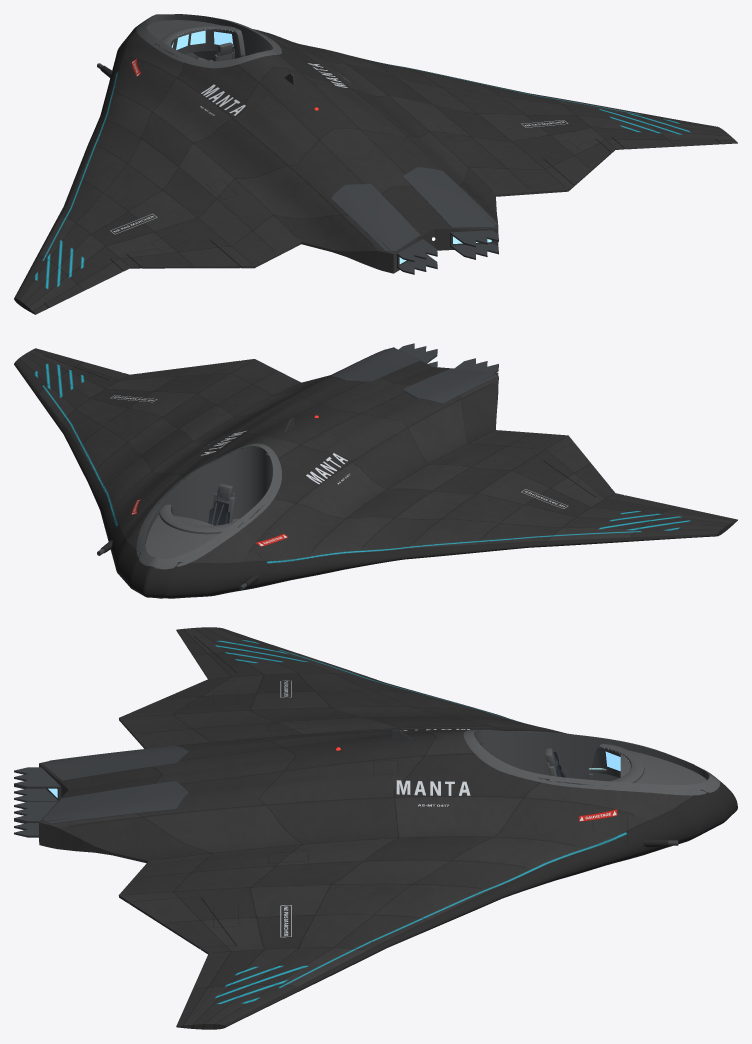
File: Raie.glb
The picture shows the model from 3 angles, top to bottom: view 1: azimuth 30°, elevation 25°; view 2: azimuth 150°, elevation 25°; view 3: azimuth 270°, elevation 25°; orthographic projection. The views are drawn at different scales.
Parts seen in each view (by area): view 1: Raie; view 2: Raie; view 3: Raie.
Boxes of the visible parts, x1=… form: Raie: x1=14, y1=14, x2=737, y2=314; Raie: x1=14, y1=343, x2=737, y2=598; Raie: x1=14, y1=627, x2=737, y2=1029.
Bounding box in the file's own units: 18.8 × 2.6 × 14.5.
Materials: 11 (2 with a texture image).
